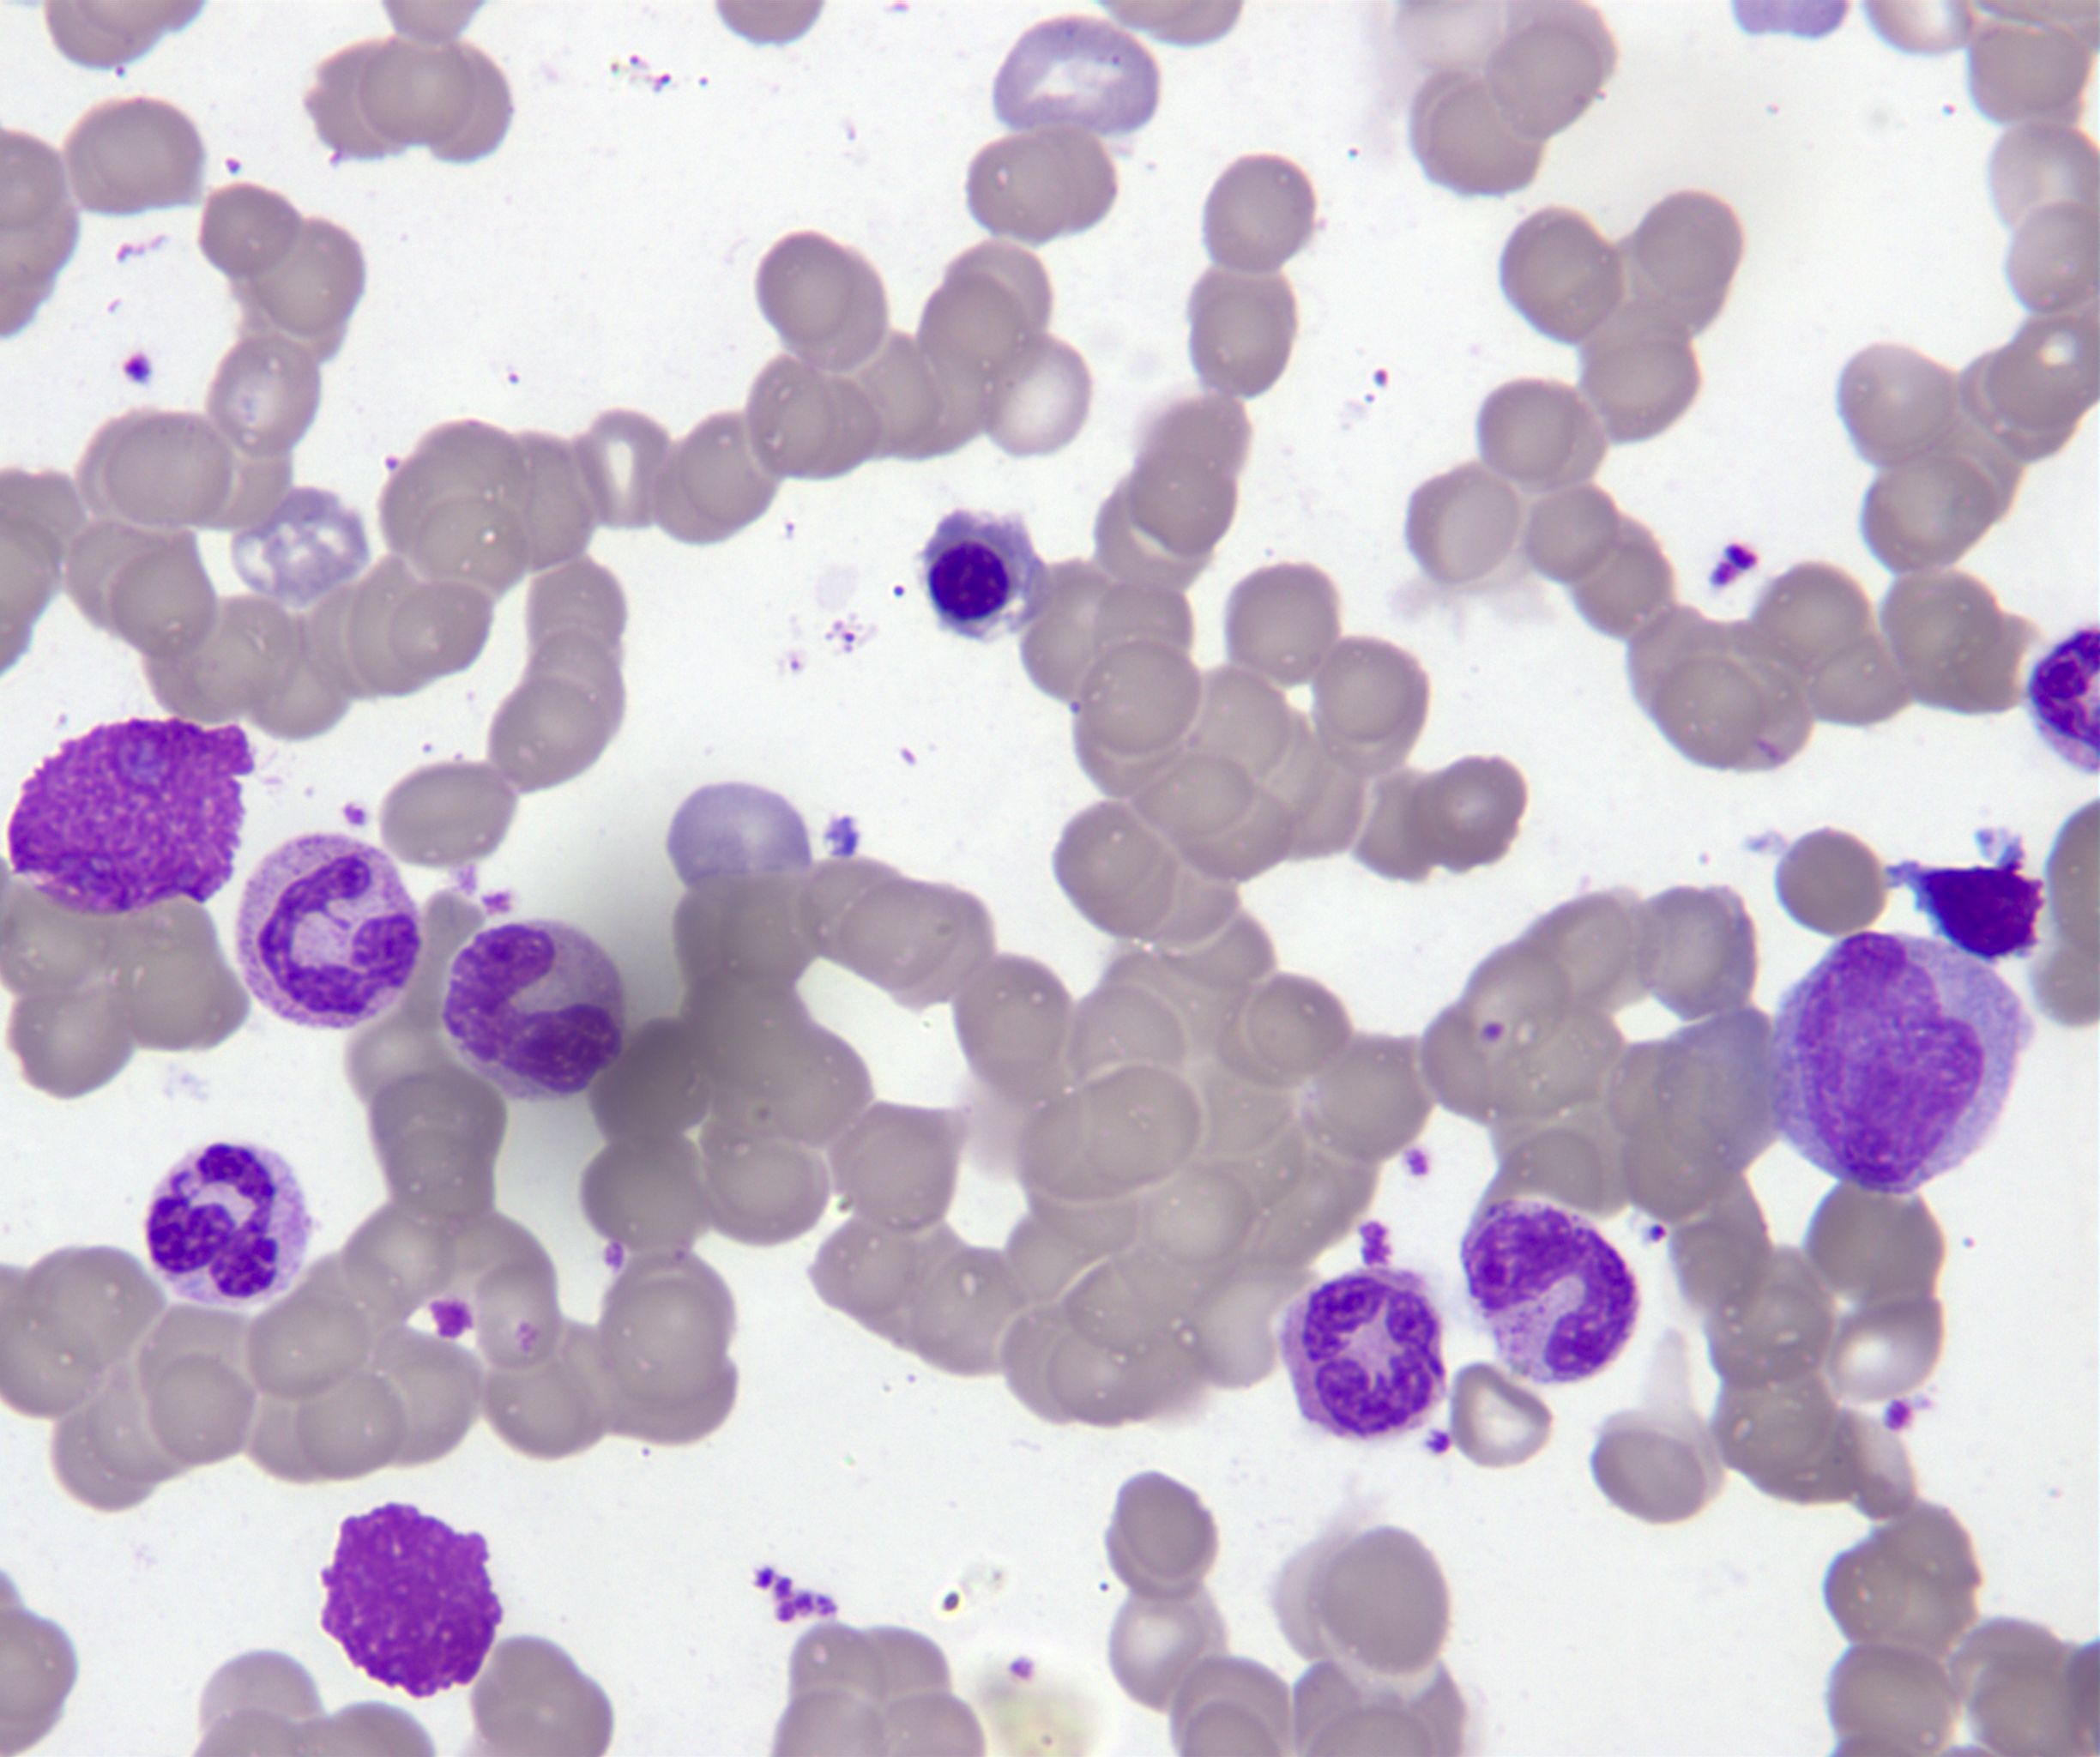24: (917, 501, 1050, 644)
32: (1887, 853, 2053, 970)
42: (1760, 928, 2027, 1199)
5: (228, 825, 431, 1042), (431, 914, 630, 1113), (1453, 1190, 1645, 1391)
6: (1272, 1261, 1455, 1446), (140, 1136, 312, 1317)
x: (0, 712, 255, 921), (316, 1497, 509, 1706)
